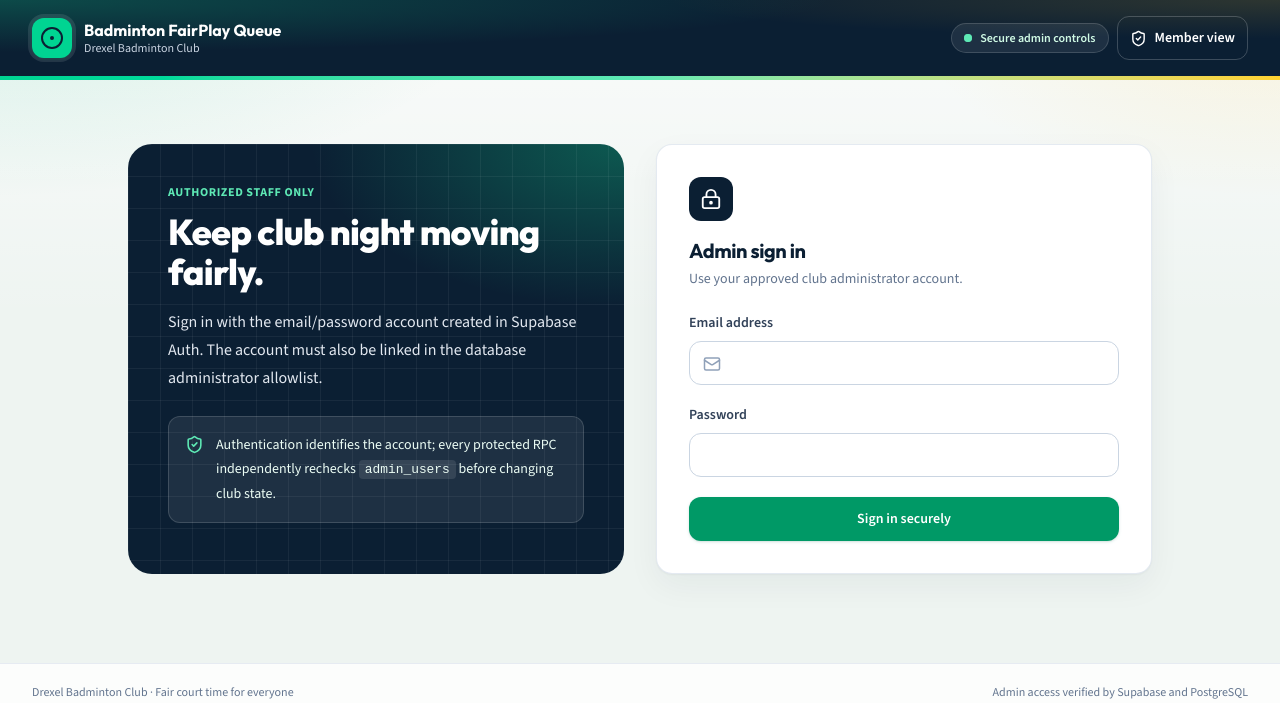
Test case: application routes and major states › redirects a signed-out admin and opens the database-authorized dashboard after sign in
expect the heading "Admin sign in" is shown: met, box [689,238,806,263]
Type "admin@drexel.edu" into the field labelled "Email address". click: [904, 363]
box: [689,341,1119,385]
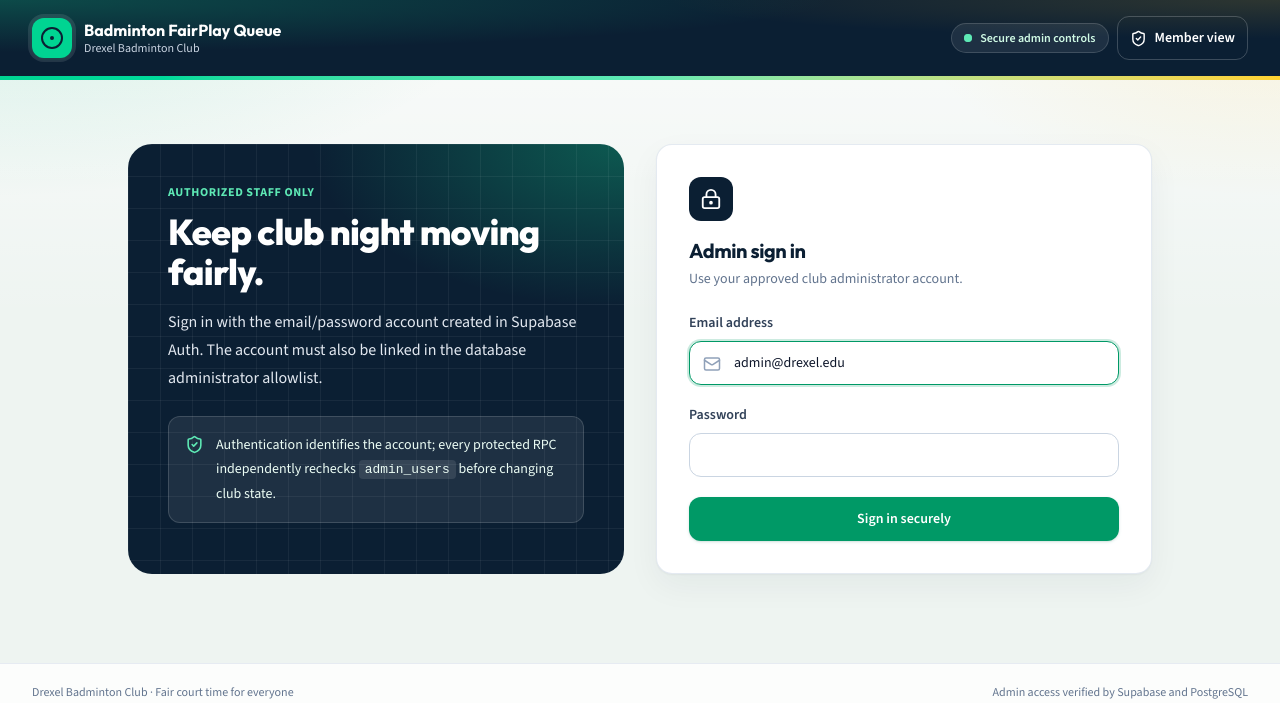
Type "secure-password" into the password field labelled "Password". click: [904, 455]
box: [689,433,1119,477]
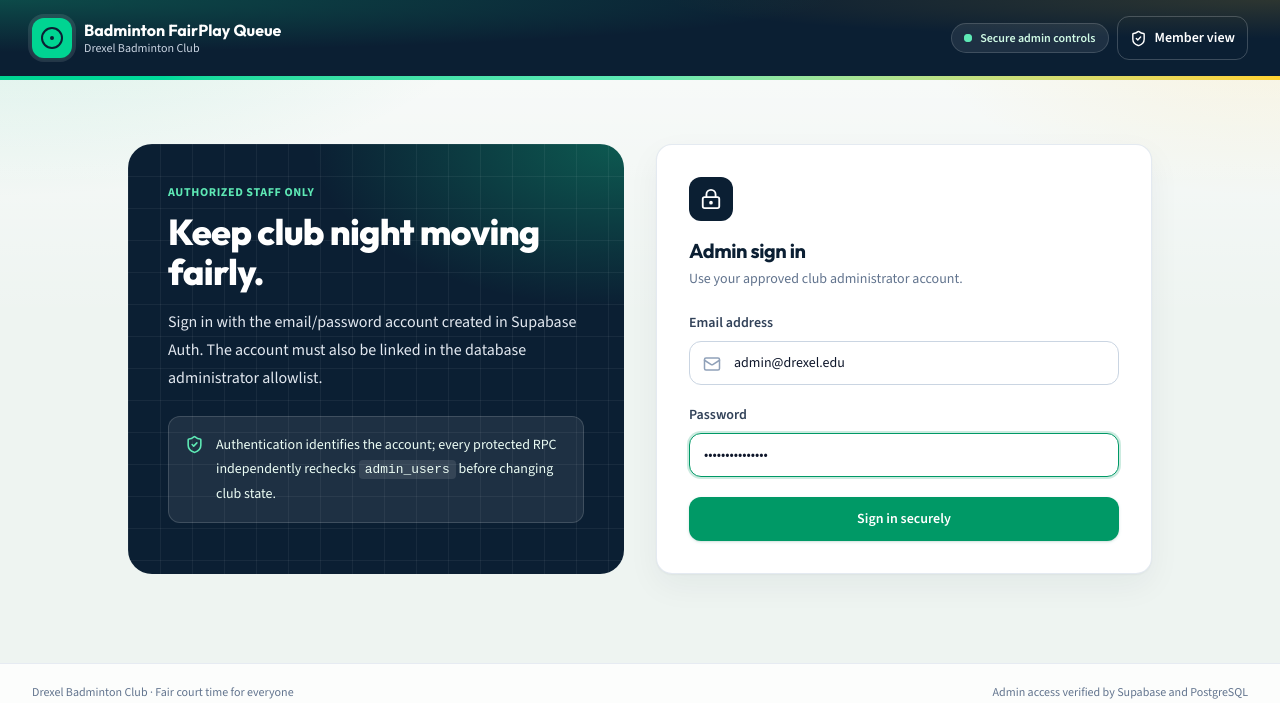
Click the button "Sign in securely". click: [904, 519]
box: [689,497,1119,541]
(page scrolled)
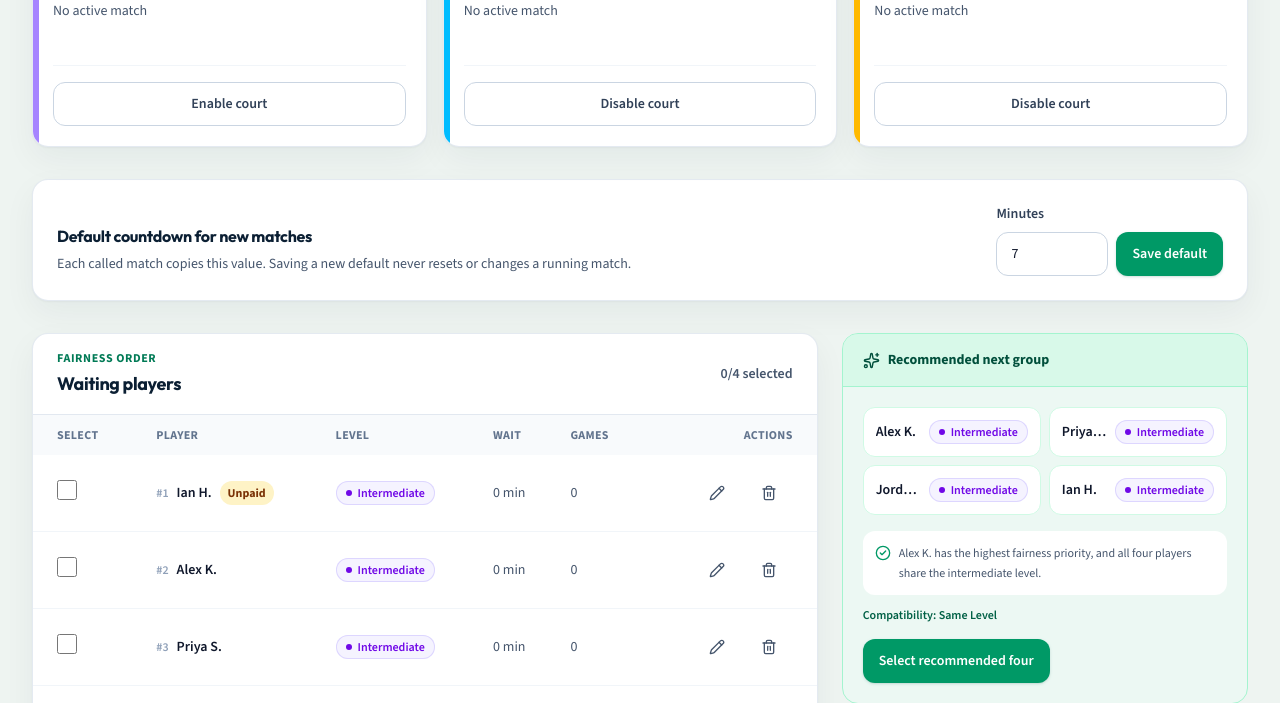
expect the text "Recommended next group" is shown: met, box [863,350,1049,369]
